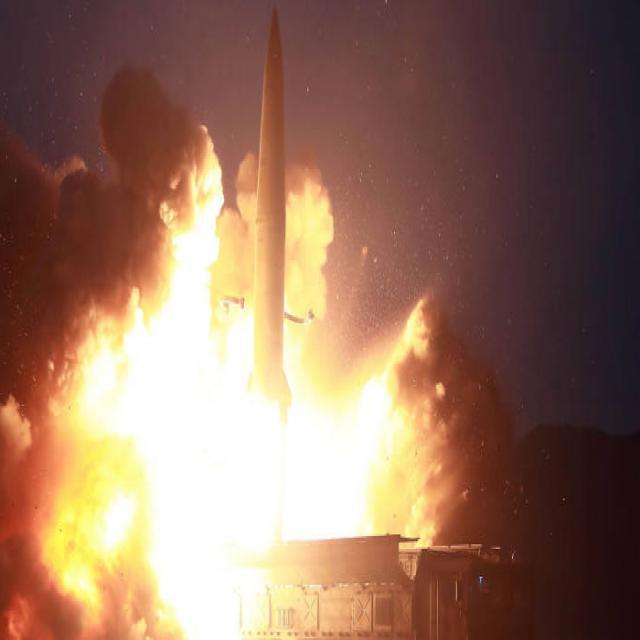missile: (252, 19, 310, 422)
